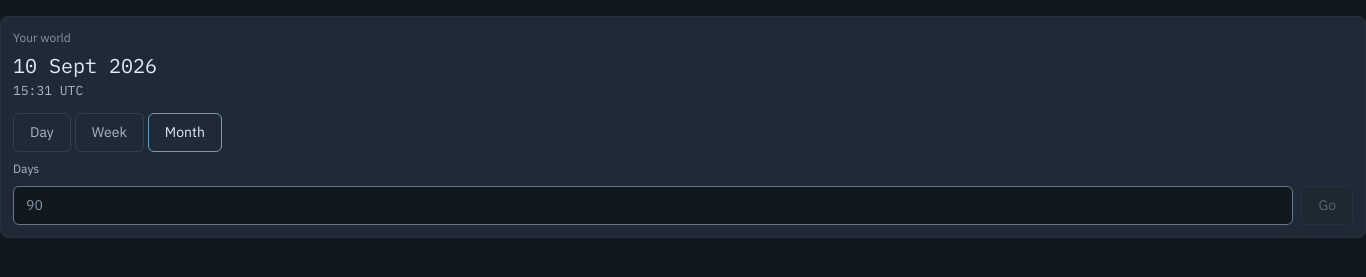
Test case: winding the clock › says how far ahead the world now is
Click the button "Month" at (185, 132), box [148,112,222,152]
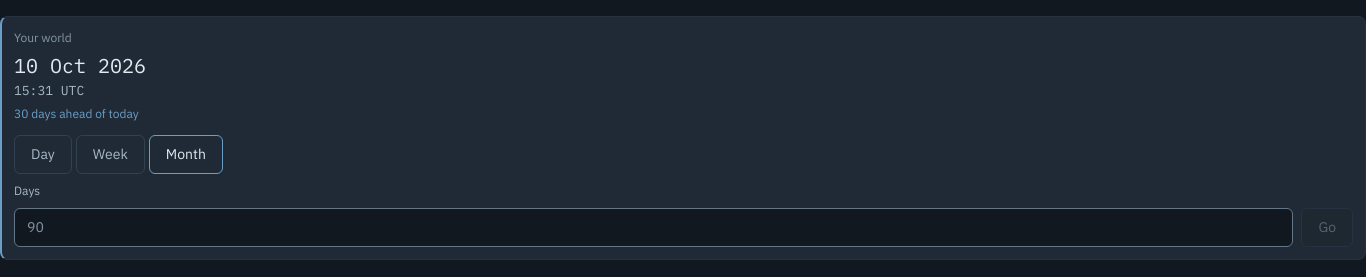
Result: the text "30 days ahead of today" is shown at [14,106,139,120]
